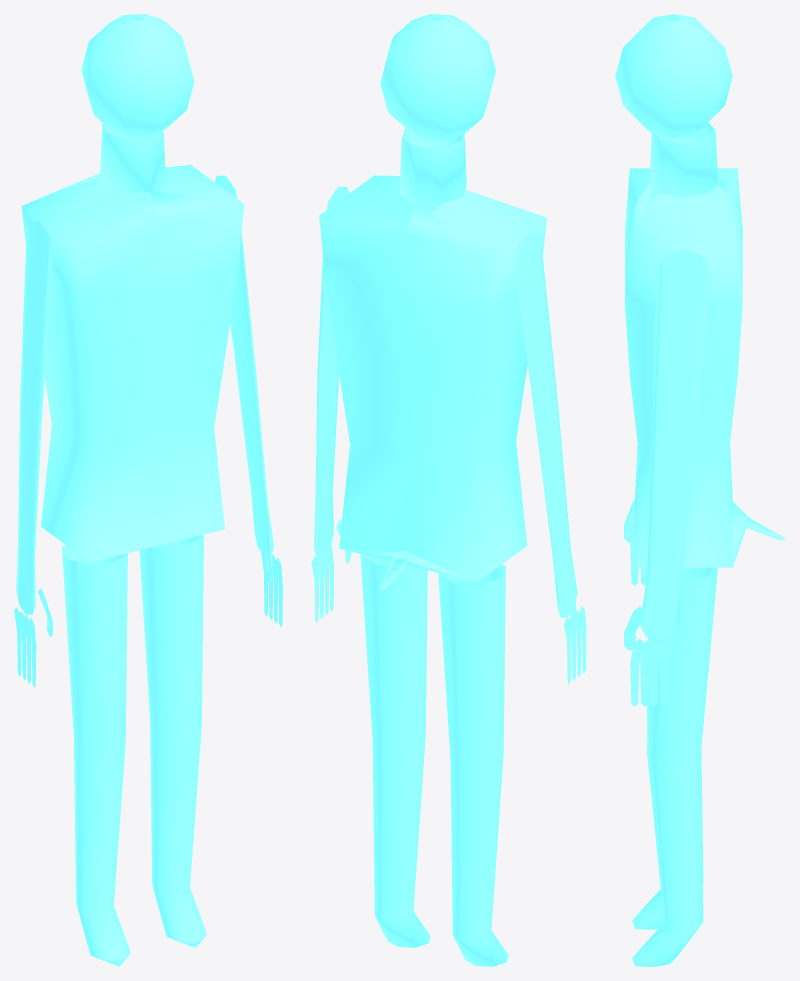
File: char_wire.glb
3 renders of one model, left to right at view 1: azimuth 30°, elevation 25°; view 2: azimuth 150°, elevation 25°; view 3: azimuth 270°, elevation 25°, orthographic. The views are drawn at different scales.
Parts seen in each view (by area): view 1: aven_wire; view 2: aven_wire; view 3: aven_wire.
Part boxes in pixels (x1,y1,x2,y2): aven_wire: (14,14,282,966); aven_wire: (311,14,586,966); aven_wire: (615,14,785,966).
Bounding box in the file's own units: 0.5832 × 2.09 × 0.348.
